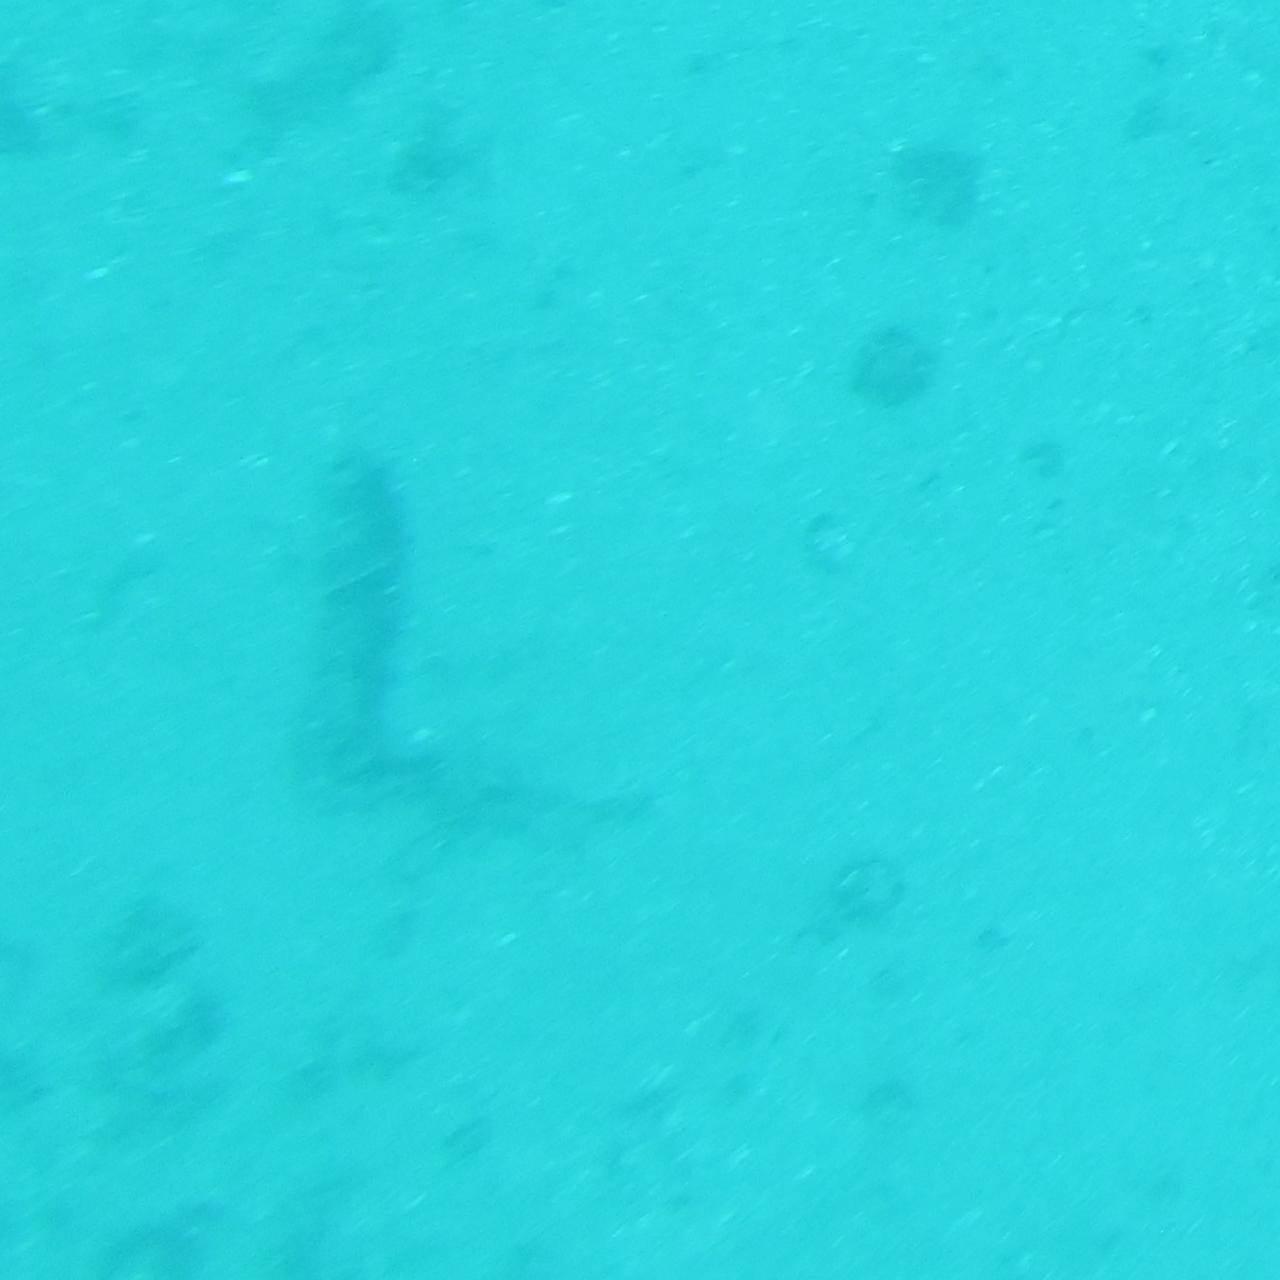Holothuria tubulosa: (316, 441, 420, 839)
